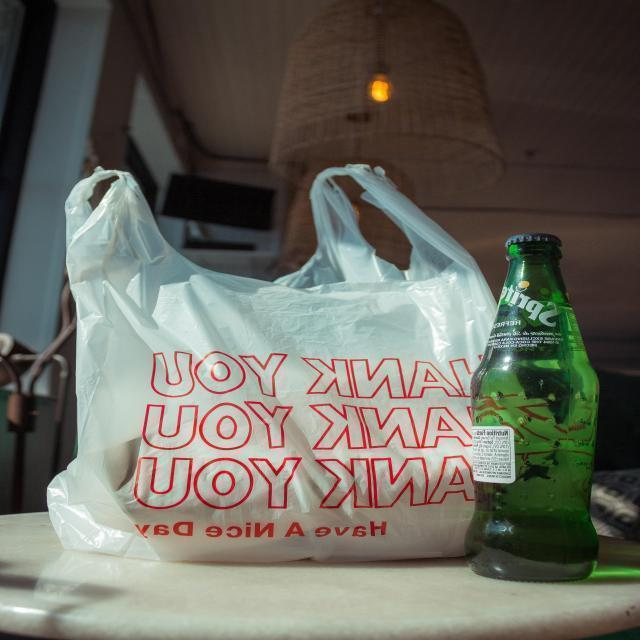KantongPlastik: (41, 151, 482, 576)
